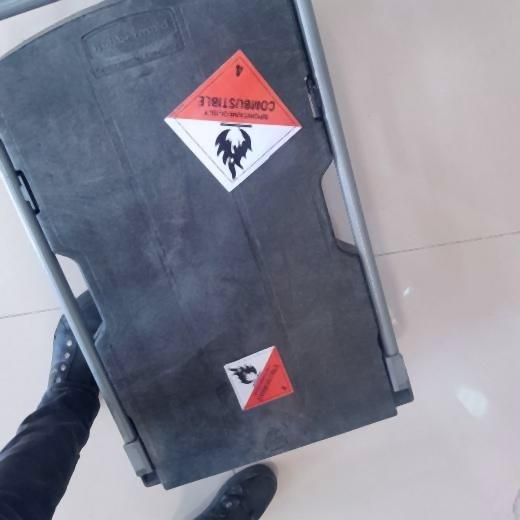spontaneously-combustible: (160, 49, 305, 191), (225, 346, 295, 413)
